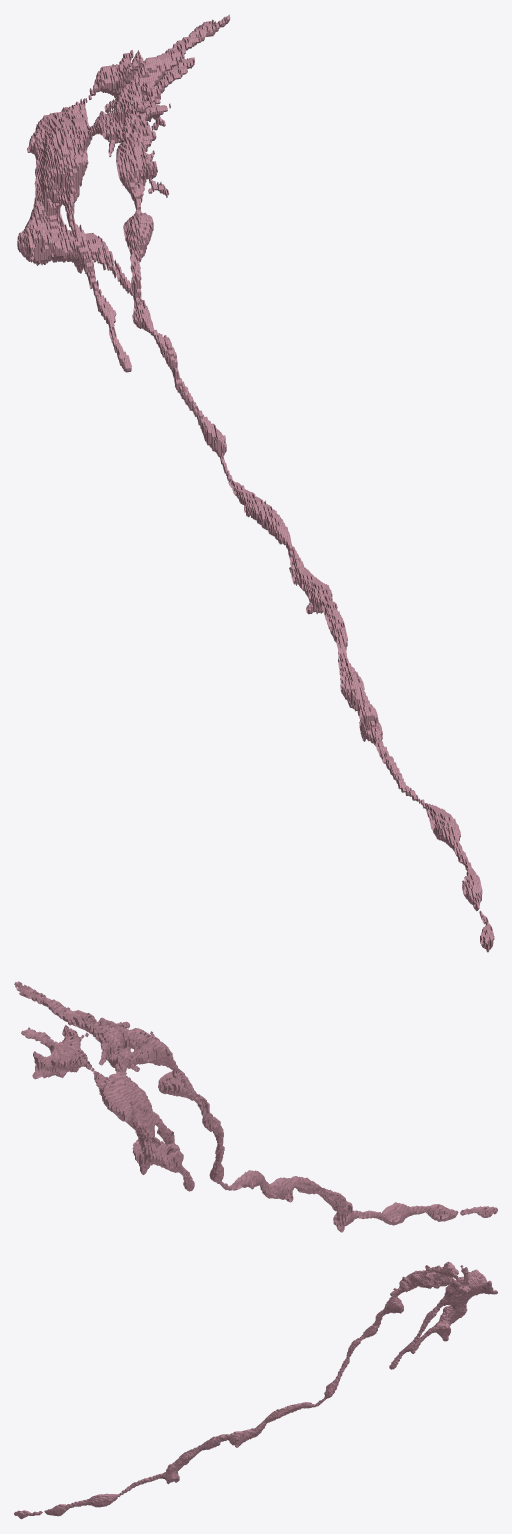
File: SVV_RMGL.gltf
The picture shows the model from 3 angles, top to bottom: view 1: azimuth 30°, elevation 25°; view 2: azimuth 150°, elevation 25°; view 3: azimuth 270°, elevation 25°; orthographic projection. The views are drawn at different scales.
Parts seen in each view (by area): view 1: RMGL; view 2: RMGL; view 3: RMGL.
Part boxes in pixels (x1,y1,x2,y2): RMGL: (17,14,494,952); RMGL: (14,981,497,1232); RMGL: (14,1261,497,1519).
Bounding box in the file's own units: 55238 × 143812 × 218709.
